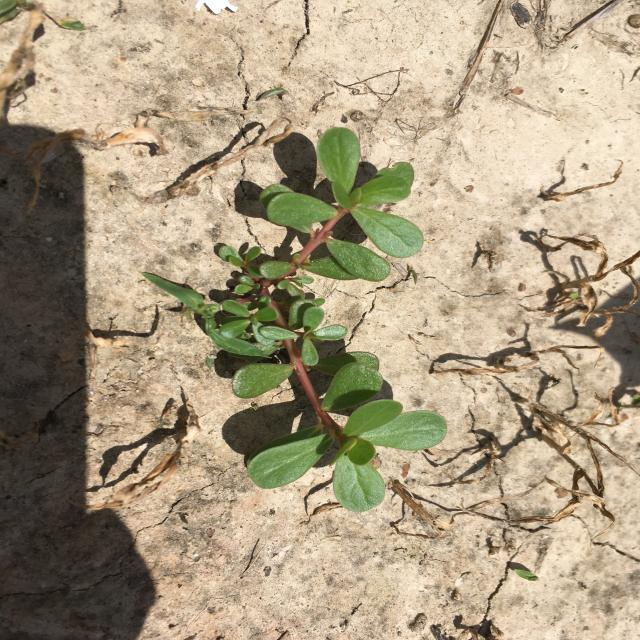Purslane: (218, 127, 448, 512)
